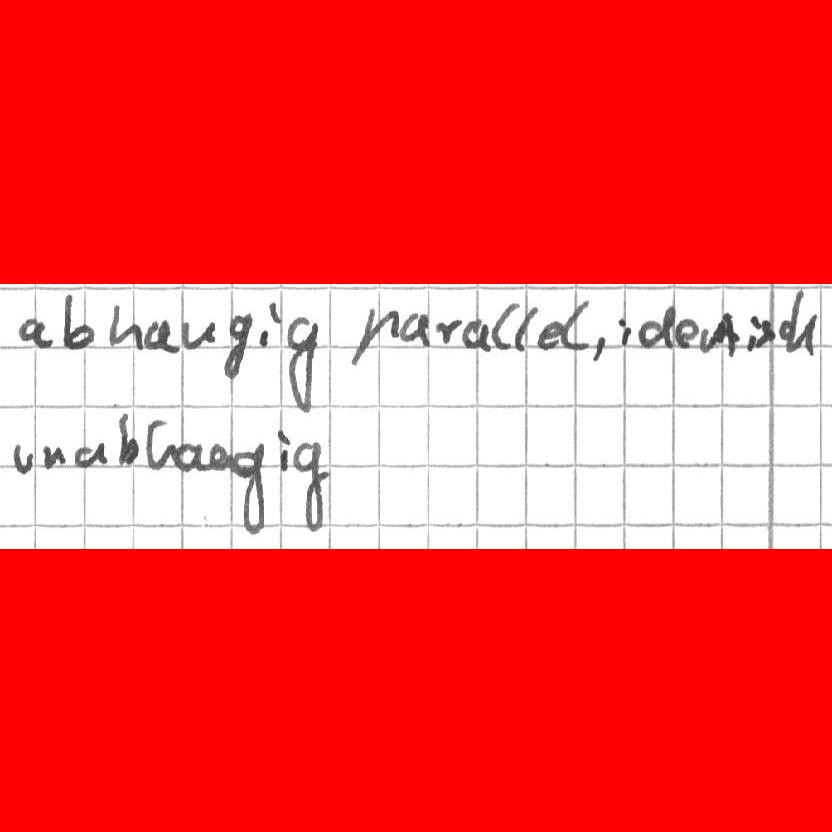Char: (290, 439, 335, 540), (229, 439, 269, 536), (345, 304, 401, 372), (284, 313, 320, 415), (142, 416, 184, 471), (62, 290, 98, 353), (220, 309, 252, 379), (697, 309, 738, 358), (787, 286, 815, 357), (560, 299, 593, 352), (108, 303, 144, 351), (639, 303, 676, 348), (490, 299, 518, 353), (113, 410, 140, 465), (509, 304, 538, 355), (179, 318, 220, 352), (144, 318, 180, 355), (16, 315, 54, 350), (399, 311, 431, 350), (258, 299, 281, 348), (462, 316, 490, 354), (174, 440, 208, 471), (536, 317, 565, 353), (10, 439, 37, 475), (74, 440, 108, 468), (41, 442, 69, 471), (672, 317, 698, 348), (434, 317, 461, 346), (585, 333, 612, 362), (740, 312, 758, 354), (616, 314, 636, 348), (757, 316, 775, 351), (276, 426, 290, 470), (779, 316, 794, 343)
